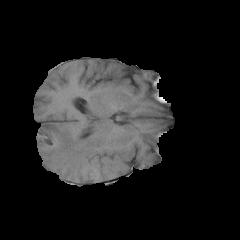glioma: (38, 115, 122, 178)
